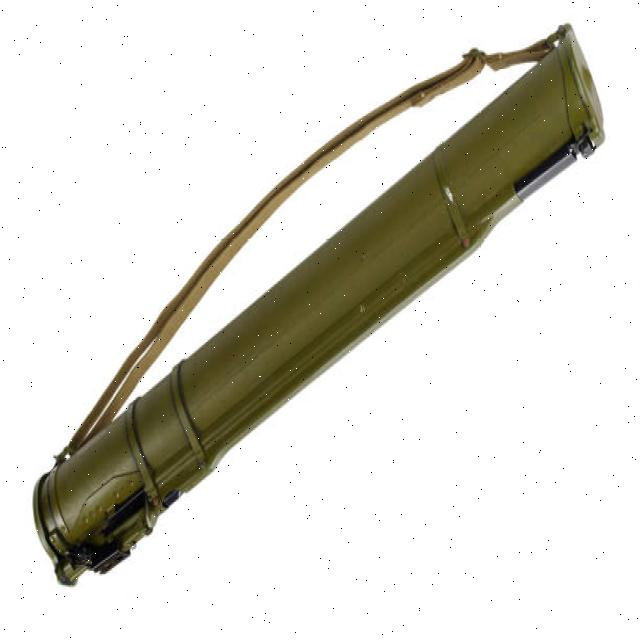bazooka: (24, 23, 609, 599)
